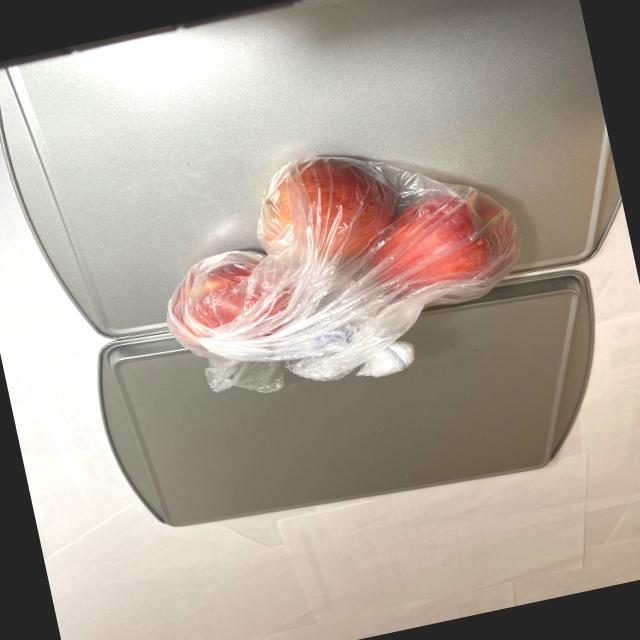apple: (142, 120, 537, 374)
